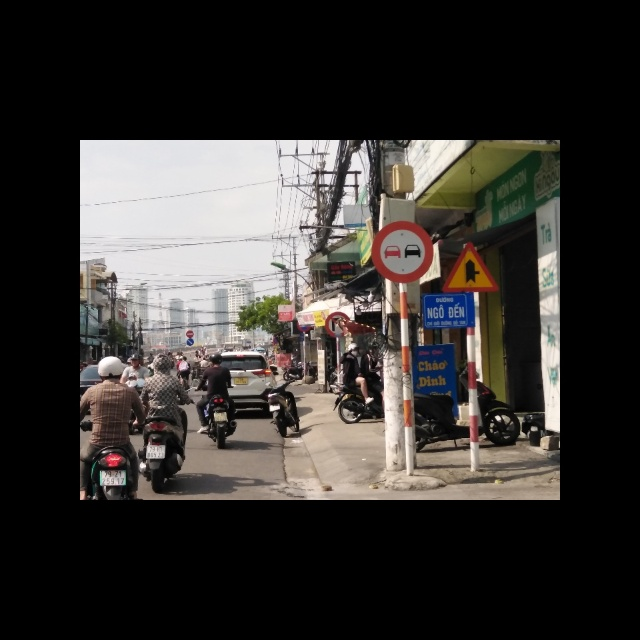Cấm vượt: (372, 220, 433, 282)
Giao nhau với đường không ưu tiên: (443, 241, 500, 294)
